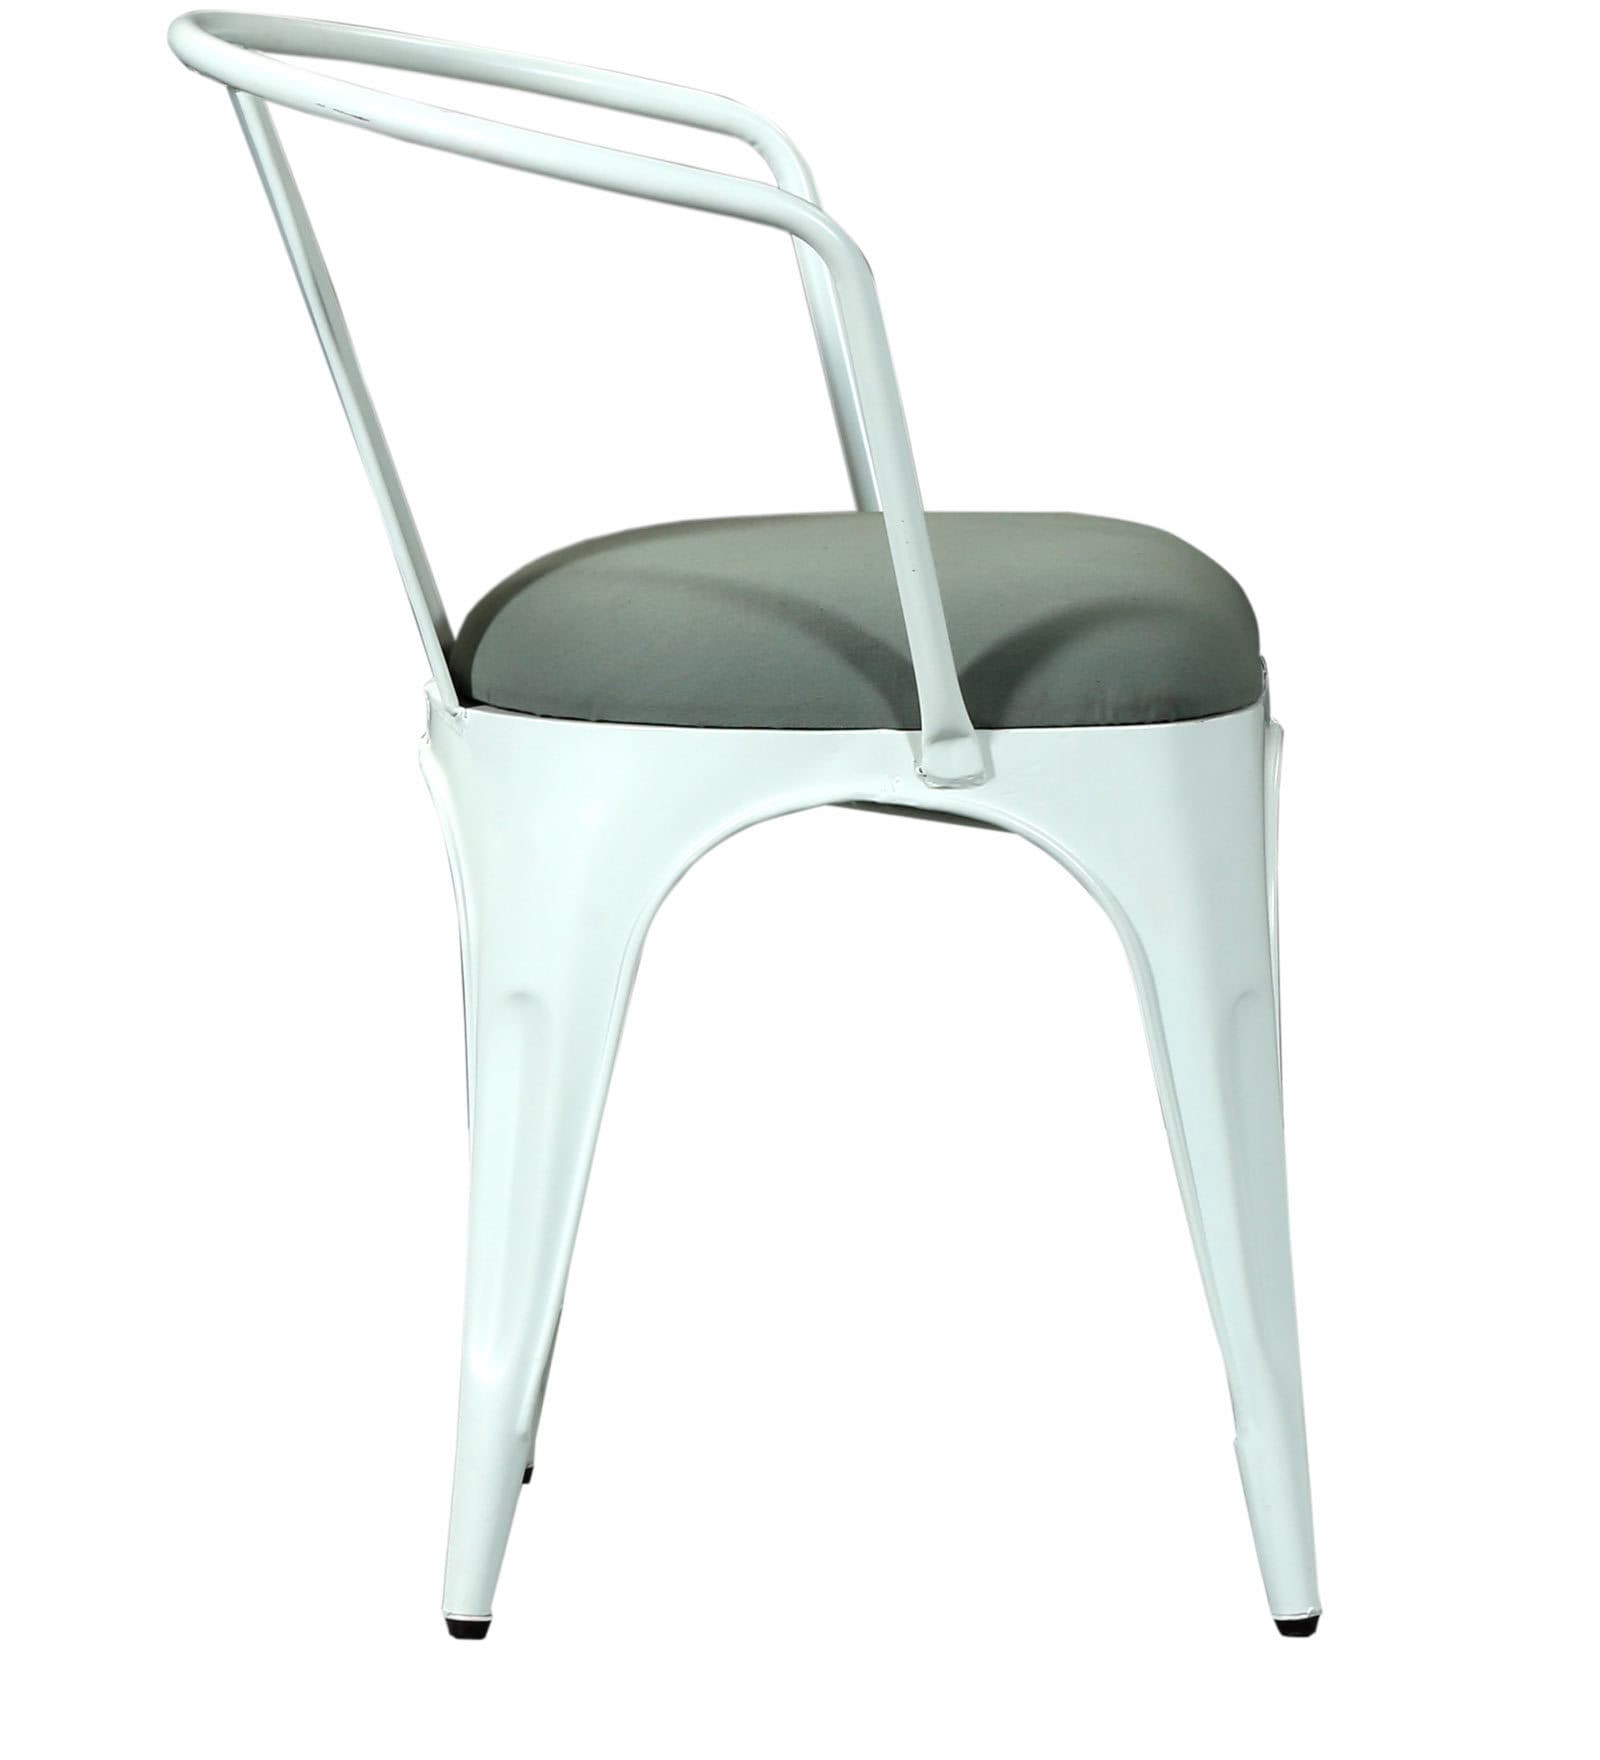Danlou Metal Chair with Cushion in White Colour by Bohemiana: (141, 5, 1418, 1735)
